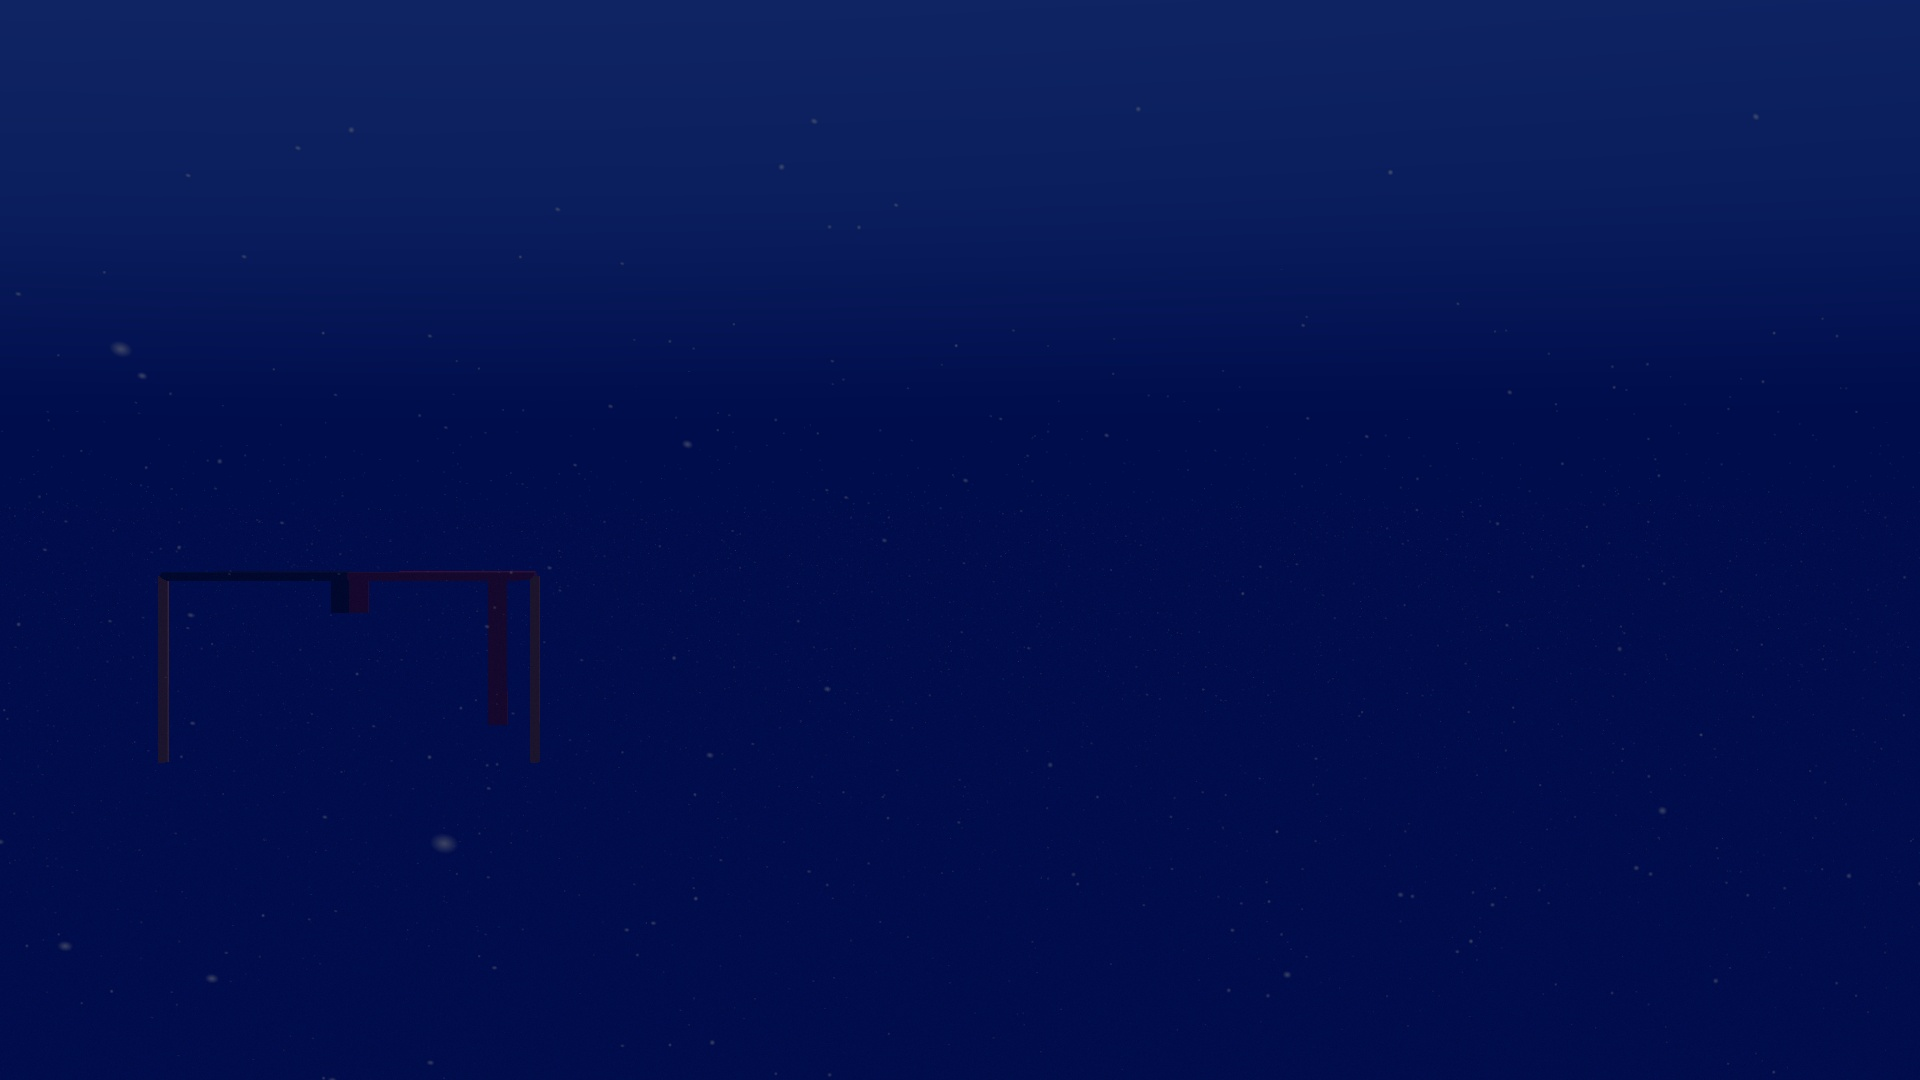Gate: (146, 560, 549, 777)
